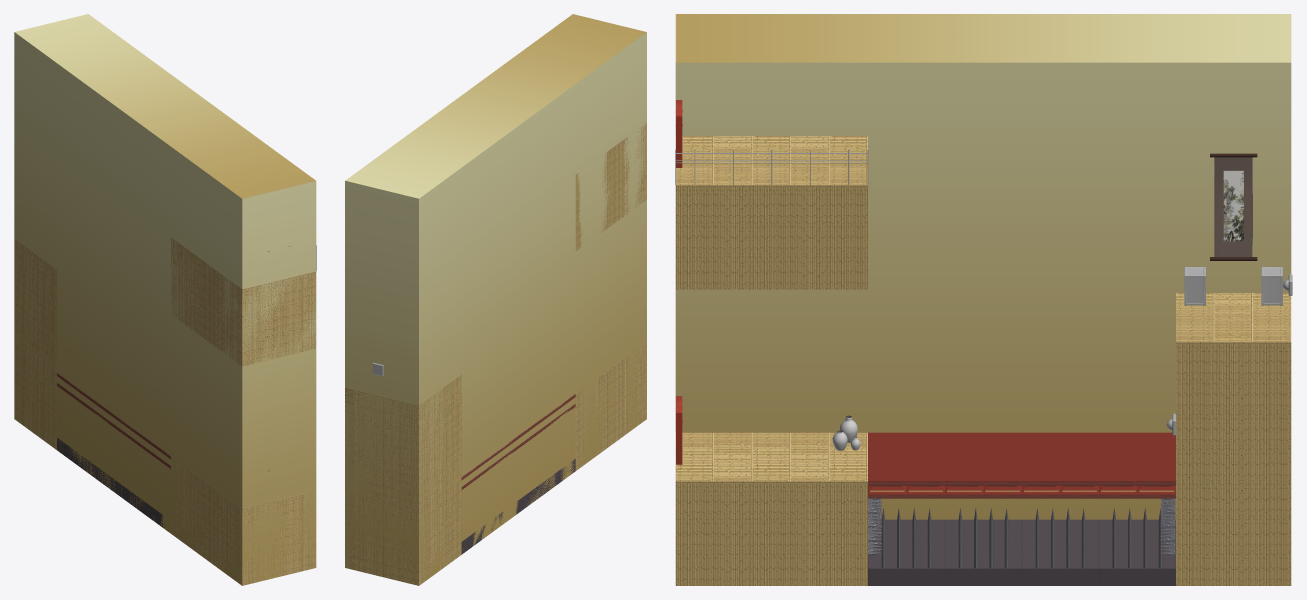
File: Floor_1.2.fbx
3 renders of one model, left to right at view 1: azimuth 30°, elevation 25°; view 2: azimuth 150°, elevation 25°; view 3: azimuth 270°, elevation 25°, orthographic. The views are drawn at different scales.
Visible parts, largest first — view 1: pCube4, polySurface122 (×2), polySurface163 (×2), polySurface136 (×2), polySurface135 (×2), polySurface150 (×2), polySurface121 (×2), polySurface120 (×2), polySurface149 (×2), polySurface164, polySurface183; view 2: pCube4, polySurface36, polySurface15, polySurface27, polySurface14, polySurface63, polySurface45, polySurface54, polySurface60, polySurface57, polySurface2, polySurface24 (+14 smaller); view 3: pCube4, polySurface126 (×2), polySurface132 (×2), polySurface123 (×2), polySurface129 (×2), polySurface120 (×2), pPlane1, polySurface127 (×2), polySurface128 (×2), polySurface133 (×2), polySurface134 (×2), polySurface124 (×2) (+48 smaller).
Boxes of the visible parts, x1=… form: pCube4: x1=14, y1=14, x2=316, y2=585; polySurface122 (×2): x1=228, y1=279, x2=266, y2=533; polySurface163 (×2): x1=228, y1=305, x2=266, y2=559; polySurface136 (×2): x1=291, y1=323, x2=316, y2=573; polySurface135 (×2): x1=291, y1=297, x2=316, y2=547; polySurface150 (×2): x1=267, y1=329, x2=291, y2=577; polySurface121 (×2): x1=267, y1=277, x2=291, y2=527; polySurface120 (×2): x1=291, y1=271, x2=316, y2=521; polySurface149 (×2): x1=267, y1=303, x2=291, y2=553; polySurface164: x1=228, y1=330, x2=266, y2=366; polySurface183: x1=228, y1=550, x2=266, y2=585; pCube4: x1=345, y1=14, x2=646, y2=585; polySurface36: x1=394, y1=472, x2=433, y2=508; polySurface15: x1=394, y1=421, x2=433, y2=456; polySurface27: x1=394, y1=447, x2=433, y2=482; polySurface14: x1=394, y1=395, x2=433, y2=430; polySurface63: x1=394, y1=550, x2=433, y2=585; polySurface45: x1=394, y1=498, x2=433, y2=533; polySurface54: x1=394, y1=524, x2=433, y2=559; polySurface60: x1=369, y1=548, x2=394, y2=579; polySurface57: x1=345, y1=542, x2=369, y2=573; polySurface2: x1=345, y1=387, x2=369, y2=418; polySurface24: x1=369, y1=445, x2=394, y2=476; pCube4: x1=675, y1=14, x2=1291, y2=519; polySurface126 (×2): x1=791, y1=168, x2=829, y2=516; polySurface132 (×2): x1=714, y1=168, x2=752, y2=516; polySurface123 (×2): x1=829, y1=168, x2=867, y2=516; polySurface129 (×2): x1=752, y1=168, x2=790, y2=516; polySurface120 (×2): x1=675, y1=168, x2=713, y2=516; pPlane1: x1=1214, y1=157, x2=1252, y2=256; polySurface127 (×2): x1=791, y1=254, x2=829, y2=585; polySurface128 (×2): x1=791, y1=219, x2=829, y2=550; polySurface133 (×2): x1=714, y1=254, x2=752, y2=585; polySurface134 (×2): x1=714, y1=219, x2=752, y2=550; polySurface124 (×2): x1=829, y1=219, x2=867, y2=550.
Size of the model in its own units: 6.02 by 30 by 32.09.
